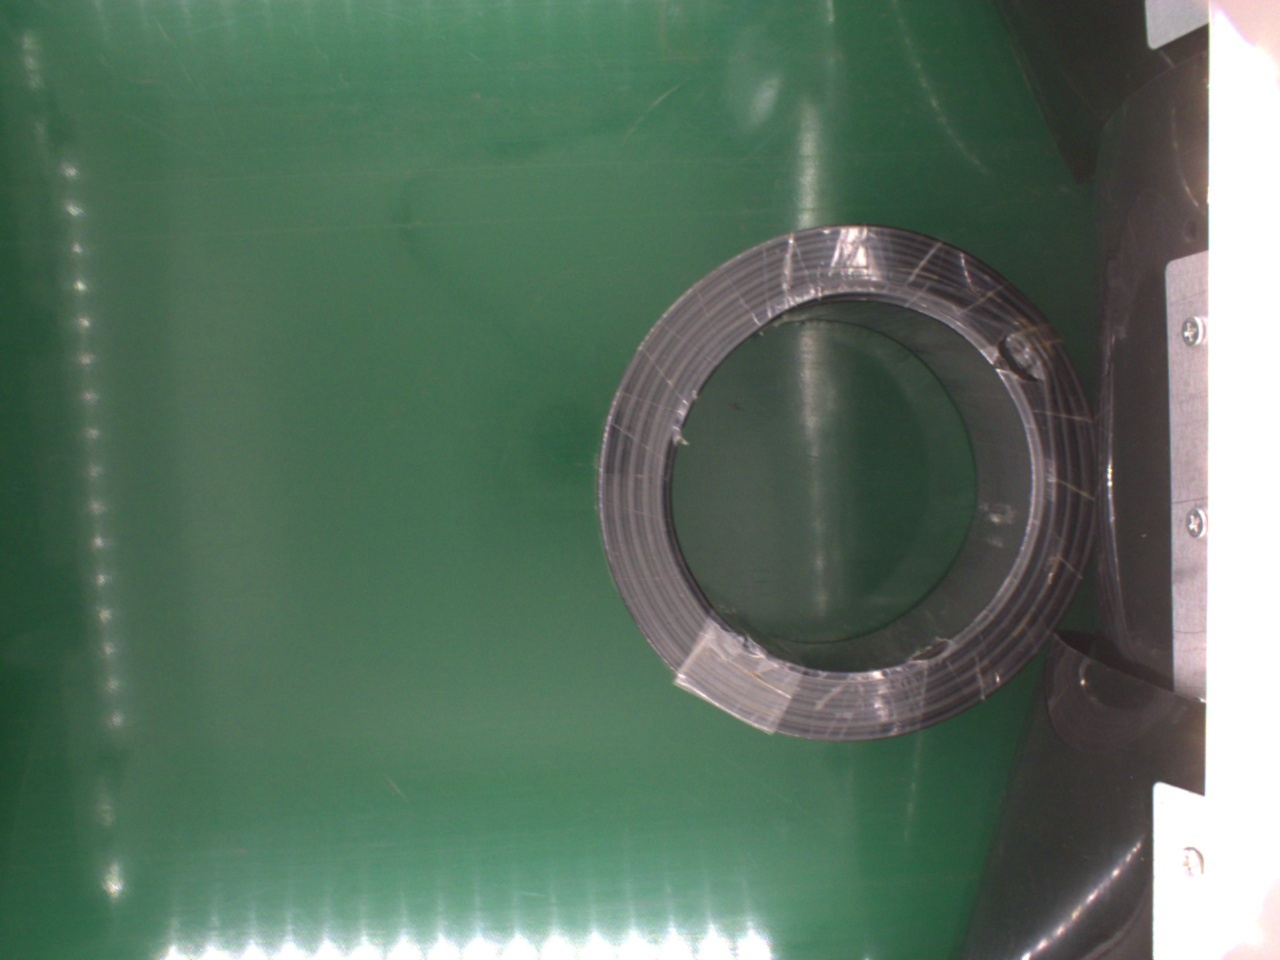black: (592, 225, 1104, 745)
